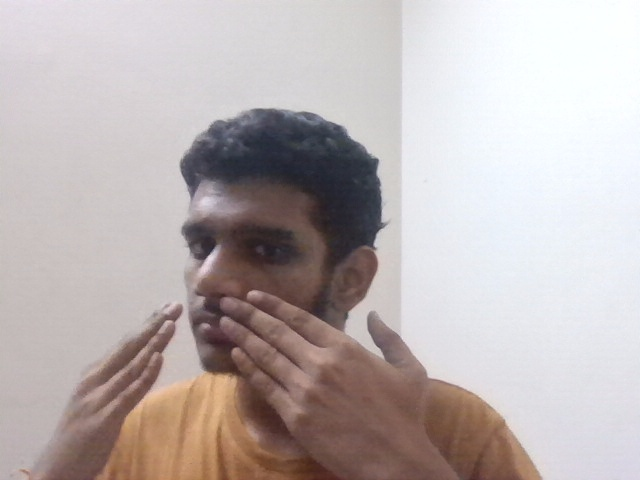thanks: (57, 294, 484, 464)
